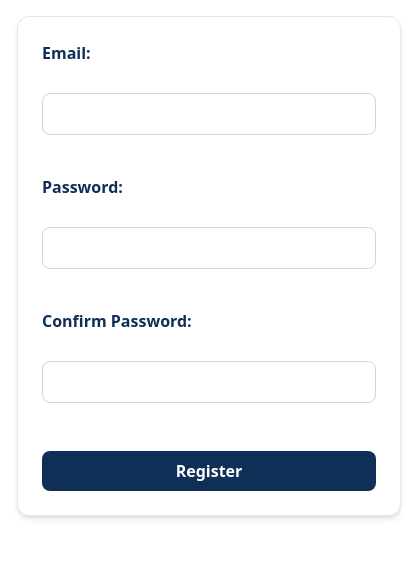
Scenario: RegisterForm › shows error when passwords do not match
The width and height of the screenshot is (419, 573).
Type "newuser@example.com" into the field labelled "Email:".
click(209, 114); type("newuser@example.com")  # box [42,93,376,135]
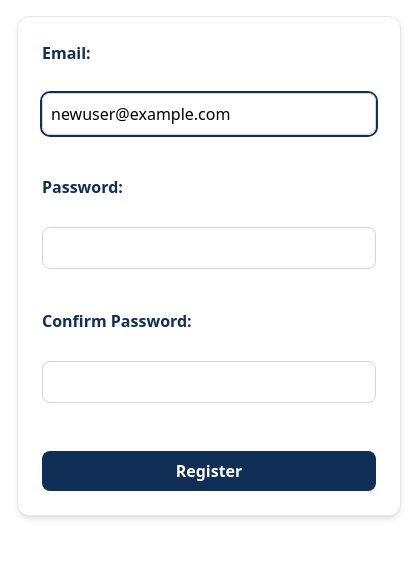
Type "password123" into the password field labelled "Password:".
click(209, 248); type("password123")  # box [42,227,376,269]
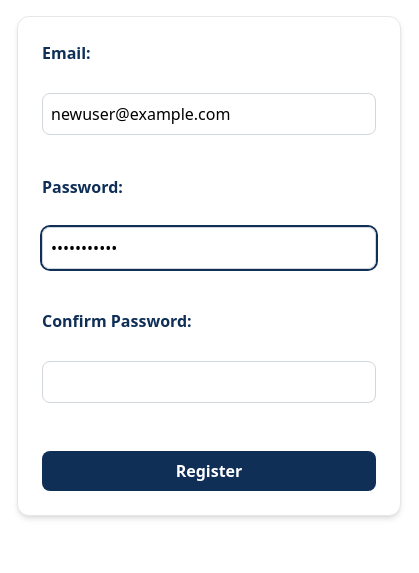
Type "differentpassword" into the password field labelled "Confirm Password:".
click(209, 382); type("differentpassword")  # box [42,361,376,403]
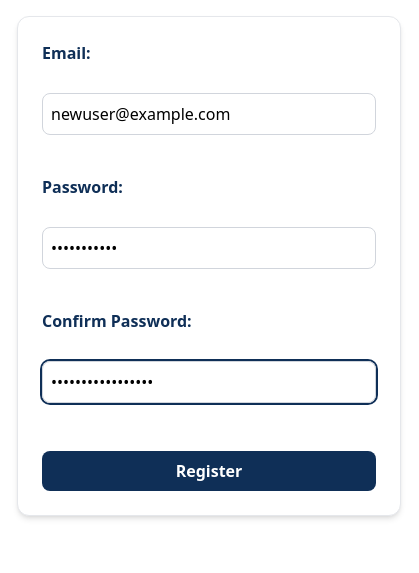
Click the button "Register".
click(209, 471)  # box [42,451,376,491]
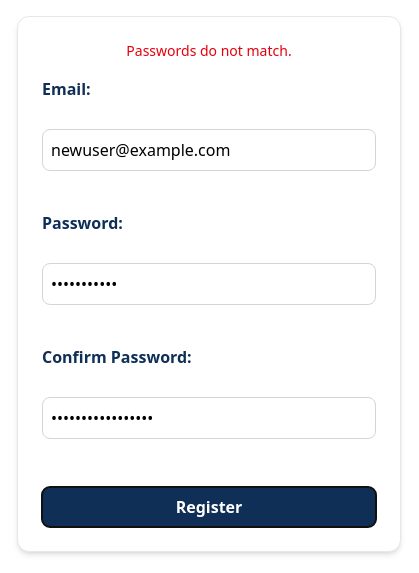
Check: the text "Passwords do not match." is shown, box [126,41,292,60]
